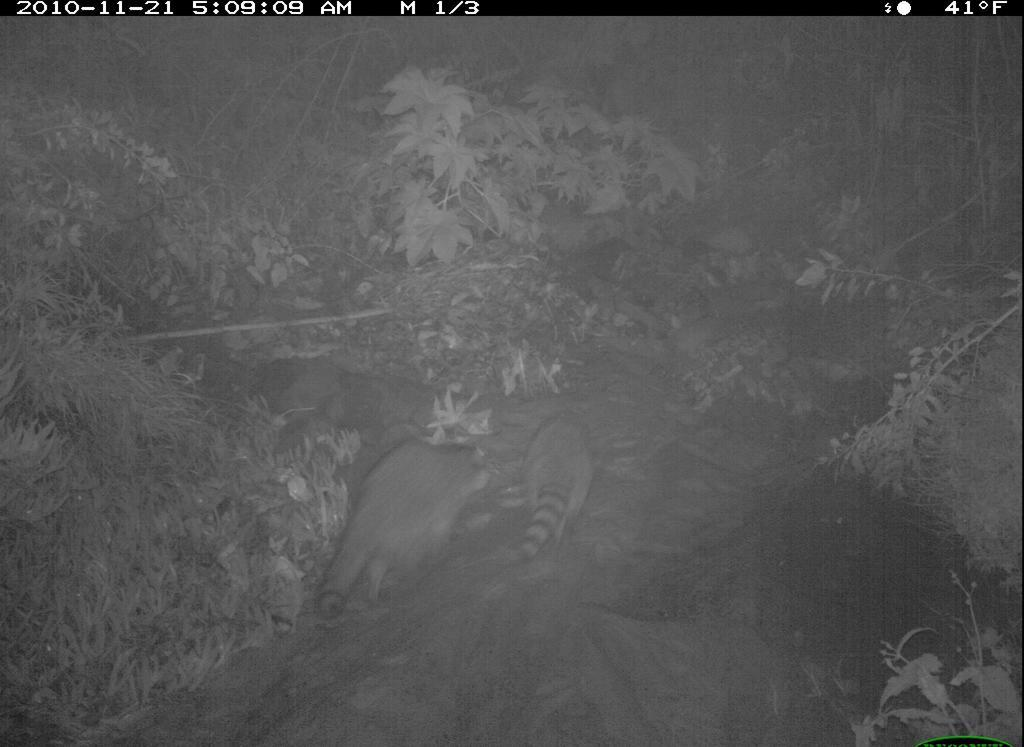raccoon: (300, 387, 496, 632), (504, 383, 609, 583)
